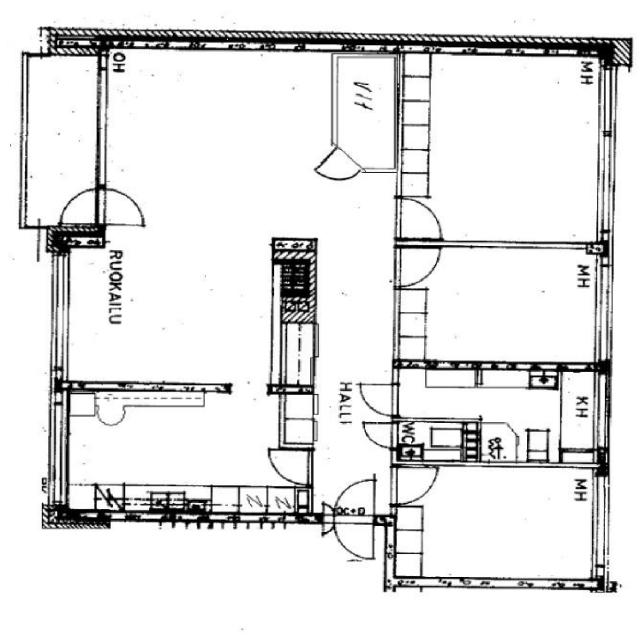door: (398, 195, 445, 240), (397, 245, 442, 288), (393, 464, 438, 506), (102, 186, 148, 226), (334, 520, 376, 562), (334, 476, 376, 517), (268, 448, 312, 486), (320, 148, 366, 184), (359, 382, 400, 418), (60, 188, 99, 225), (93, 394, 128, 431), (361, 420, 396, 449)
window: (591, 133, 621, 234), (591, 259, 617, 364), (592, 474, 616, 570), (596, 64, 622, 140), (337, 44, 398, 60)
zone: (394, 56, 603, 246), (64, 398, 285, 511), (393, 247, 603, 364), (391, 372, 589, 464), (24, 57, 99, 225), (332, 53, 399, 176)
